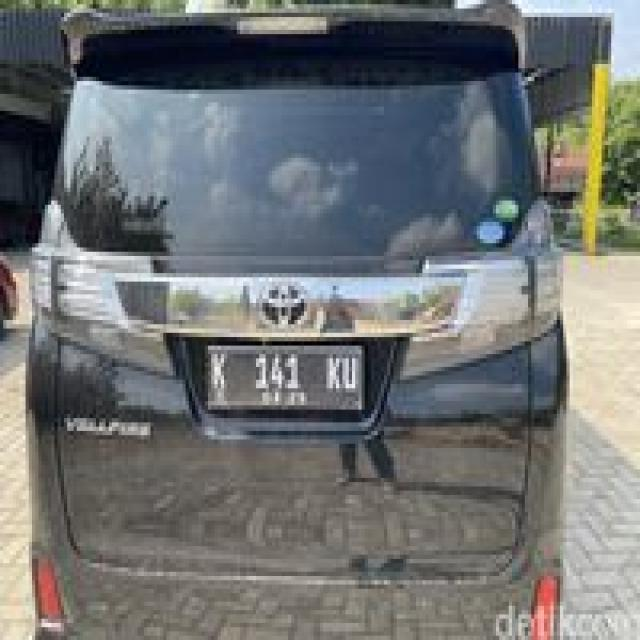lisence-plate: (194, 326, 376, 432)
